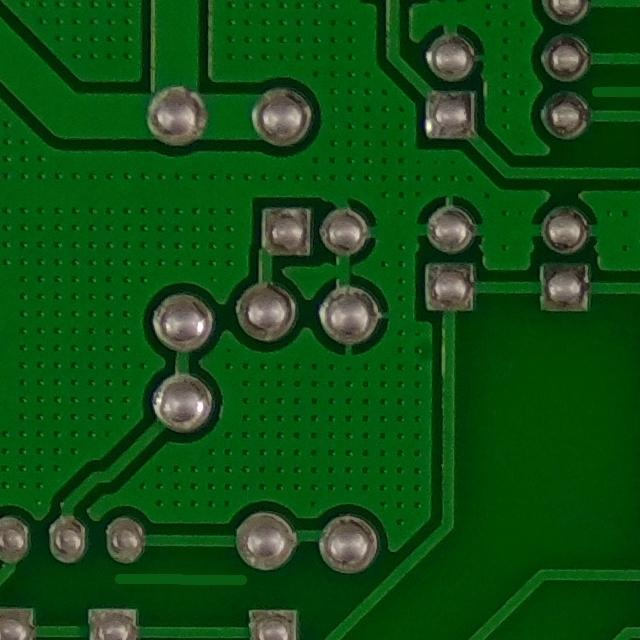spurious_copper: (104, 551, 263, 616), (586, 72, 640, 112)
